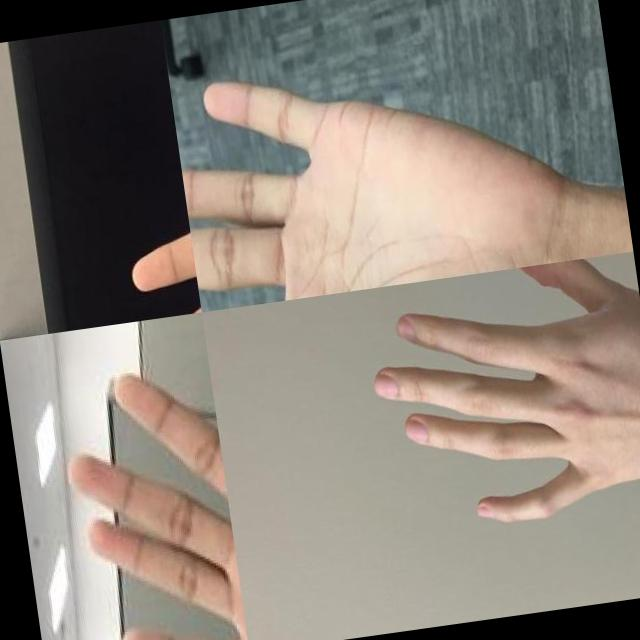Nail: (374, 374, 398, 397), (406, 419, 429, 441), (396, 319, 416, 340), (476, 505, 493, 517)
